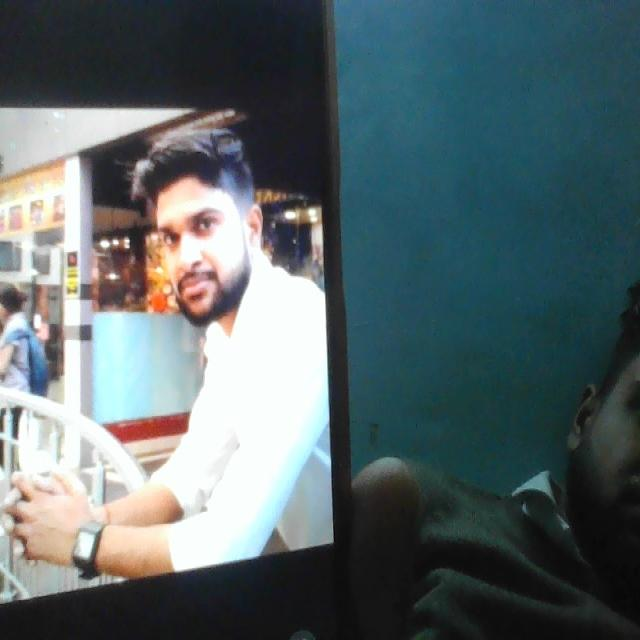fake: (132, 104, 259, 344)
